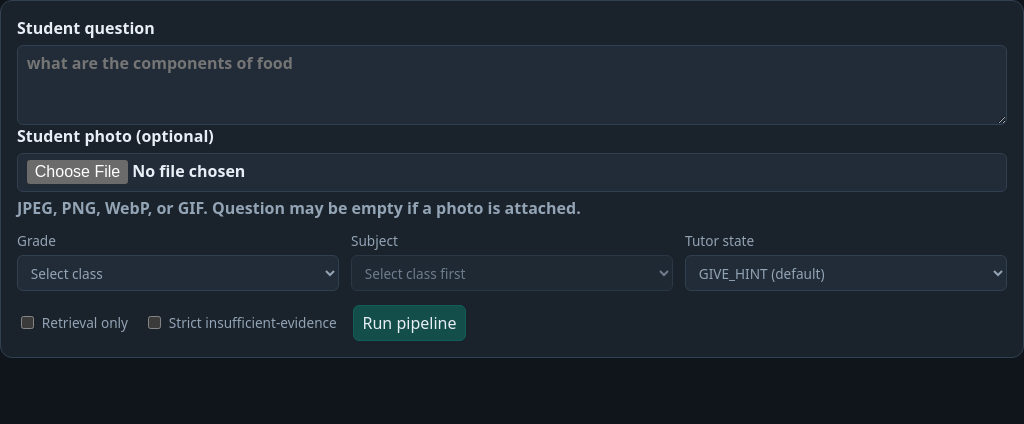
query validation › requires grade and subject and hides extra metadata fields
Click the button "Run pipeline" at coordinates (409, 323), box [353,304,466,341]
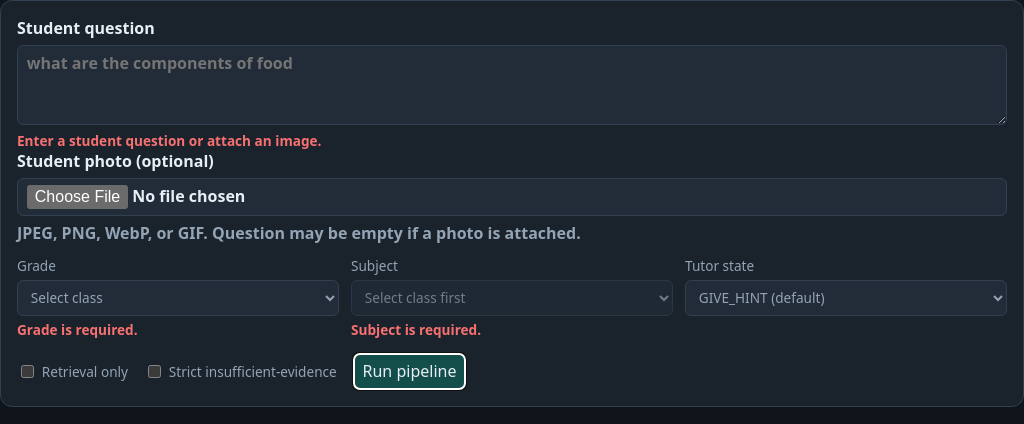
Expected: the text "Enter a student question or attach an image." is shown, [17,131,322,150]
Expected: the text "Grade is required." is shown, [17,320,138,339]
Expected: the text "Subject is required." is shown, [351,320,481,339]
